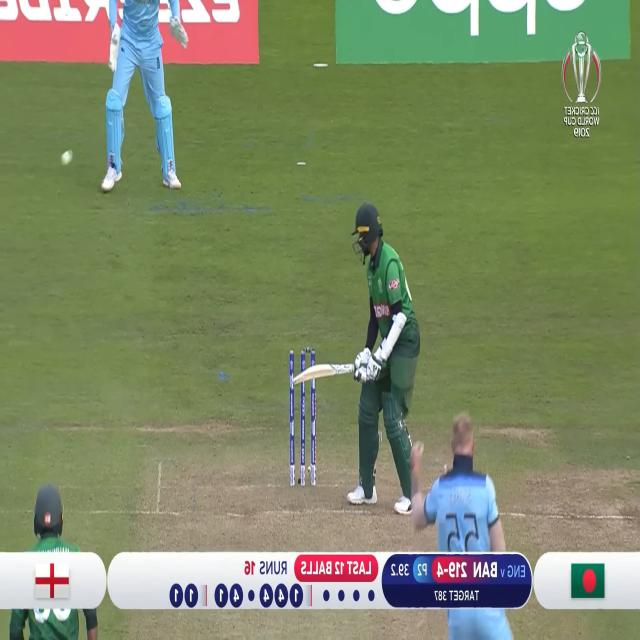ball: (60, 145, 74, 168)
